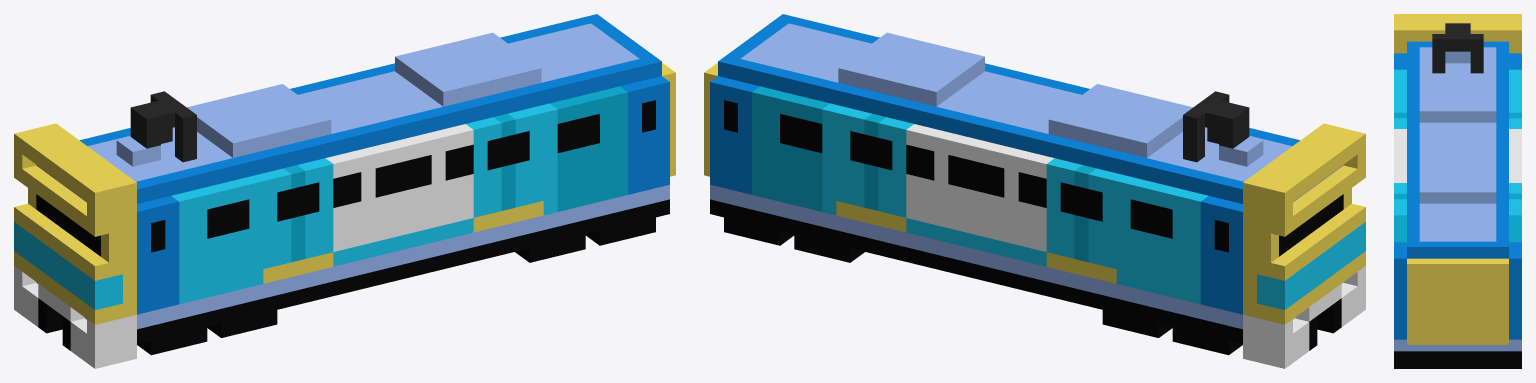
Rendered from RailBack.obj.
3 views of the same model, side by side, from view 1: azimuth 30°, elevation 25°; view 2: azimuth 150°, elevation 25°; view 3: azimuth 270°, elevation 25° (orthographic). The views are drawn at different scales.
Size of the model in its own units: 4.2 by 1.4 by 1.
Materials: 1 (1 with a texture image).
